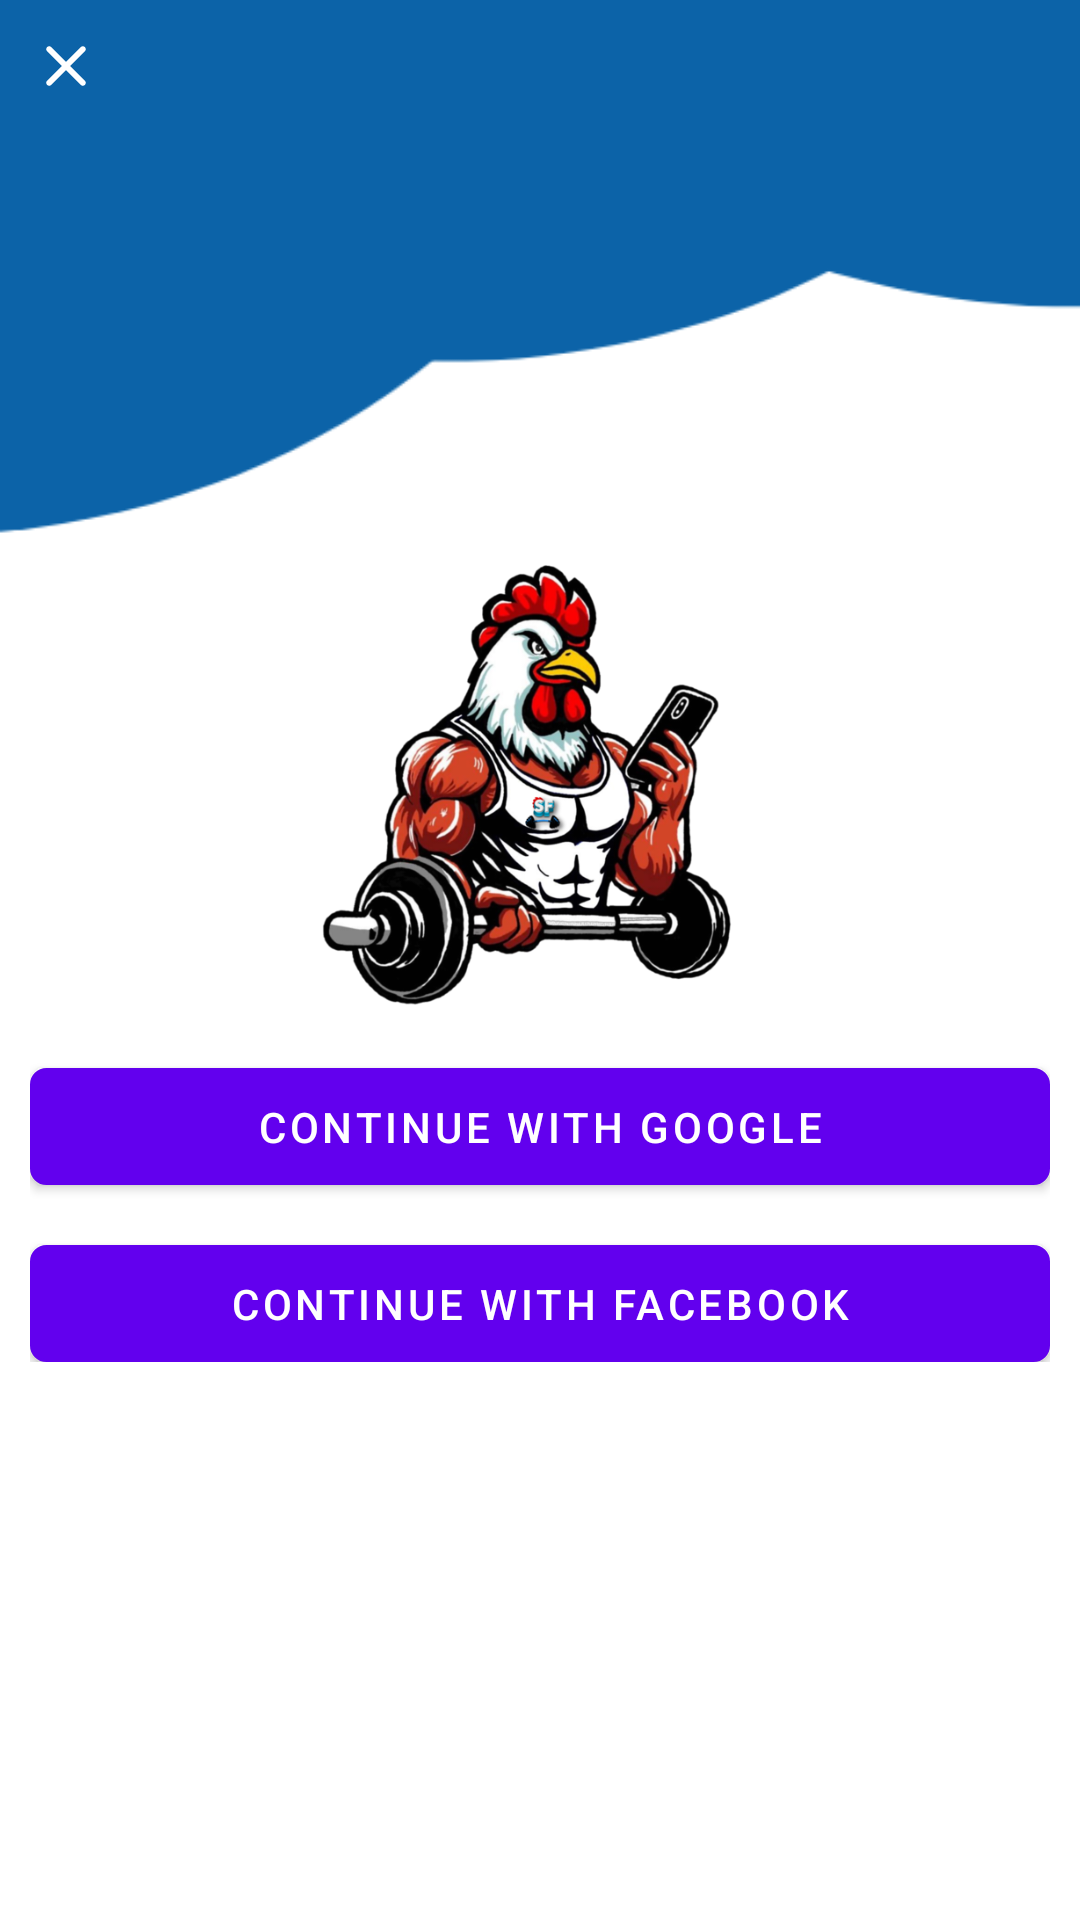

Icons on this 1080 × 1920 Android screen, each with its box as detection(x1, y1, x2, y2):
close: detection(46, 46, 86, 86)
